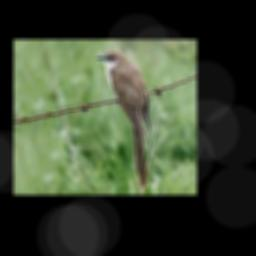Cuckoo: (95, 50, 151, 191)
